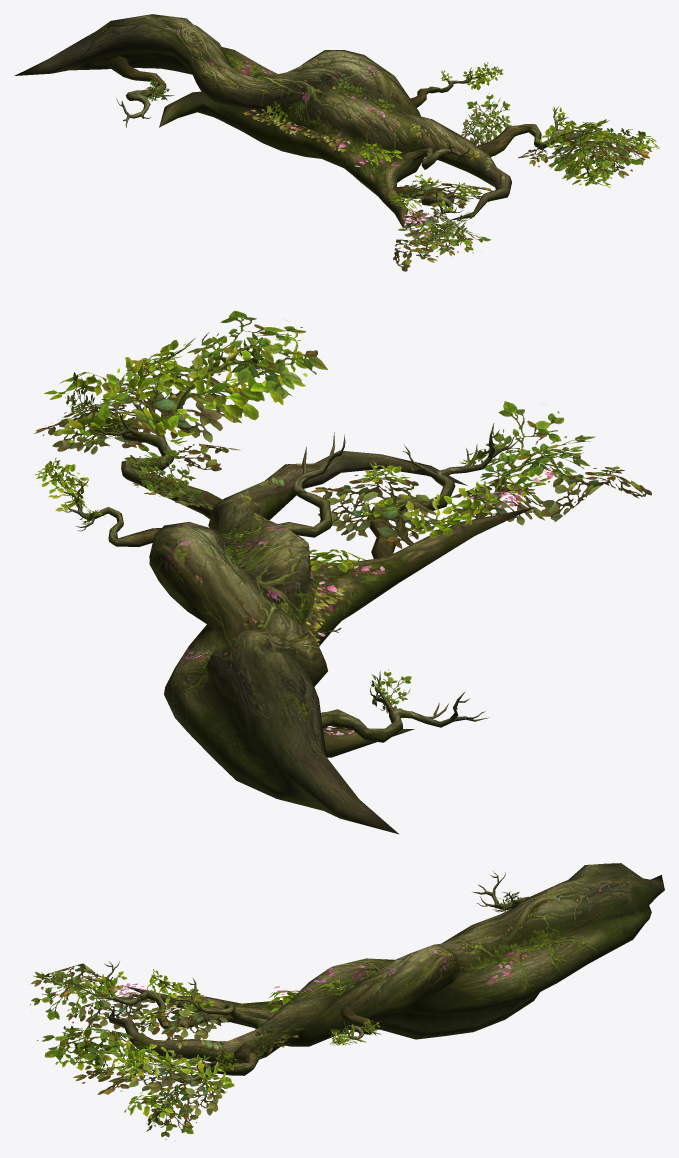
Rendered from S_Tree_Green125.FBX.
3 views of the same model, one above another, from view 1: azimuth 30°, elevation 25°; view 2: azimuth 150°, elevation 25°; view 3: azimuth 270°, elevation 25° (orthographic). The views are drawn at different scales.
Visible parts, largest first — view 1: S_Tree_Green125; view 2: S_Tree_Green125; view 3: S_Tree_Green125.
Boxes of the visible parts, x1,y1,x2,y2 form: S_Tree_Green125: (14, 14, 659, 271); S_Tree_Green125: (34, 310, 651, 834); S_Tree_Green125: (30, 863, 664, 1141).
Bounding box in the file's own units: 491 × 118 × 562.
